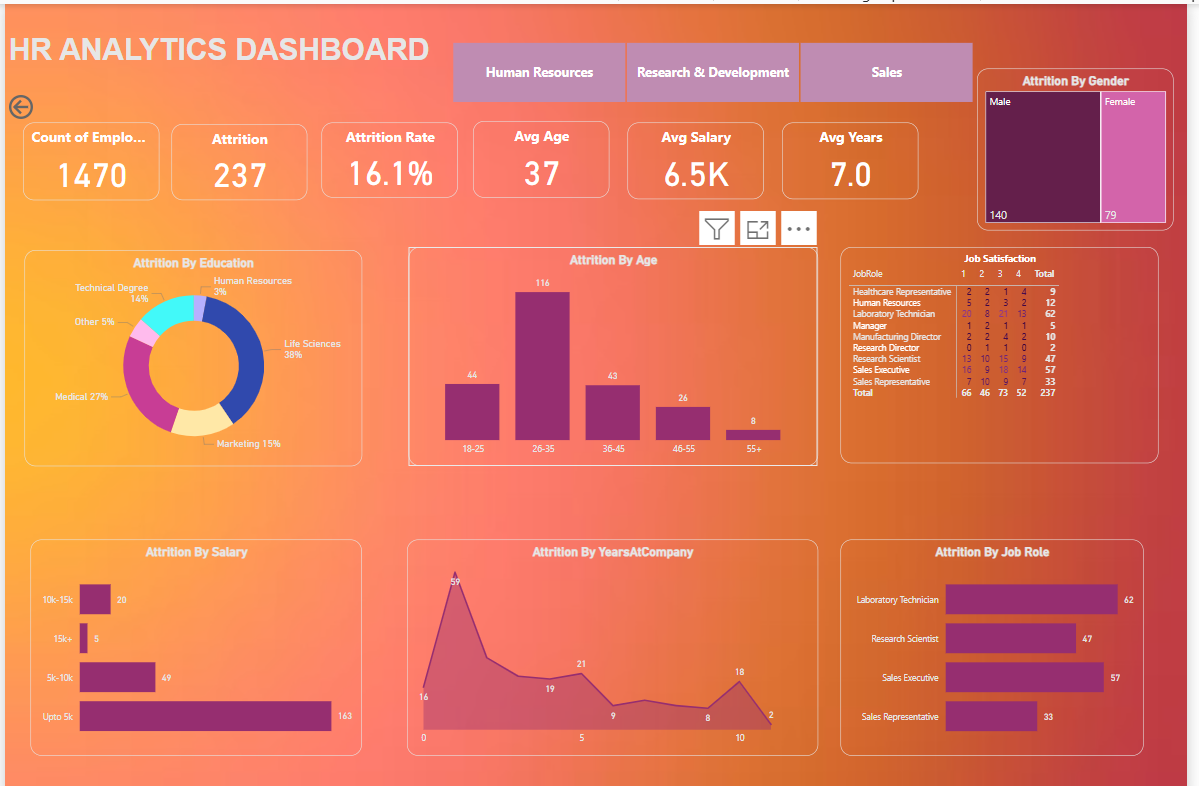

Layout of this report page (visuals, bound fields, positions):
{"tool":"powerbi","page":{"name":"Page 1","canvas":[1480,1000],"ordinal":0},"visuals":[{"type":"card","title":"Count of Employees","fields":{"Values":["CountNonNull(HR_Analytics.EmpID)"]},"box":[22.5,148.3,170.8,97.6],"z":0},{"type":"card","title":"Attrition","fields":{"Values":["Sum(HR_Analytics.AttritionCount)"]},"box":[207.8,149.4,170,95],"z":1000},{"type":"card","title":"Attrition Rate","fields":{"Values":["HR_Analytics.AttritionRate"]},"box":[396.1,148.3,170.8,93.9],"z":2000},{"type":"card","title":"Avg Age","fields":{"Values":["Avg(HR_Analytics.Age)"]},"box":[585.7,146.4,170.8,95.7],"z":3000},{"type":"card","title":"Avg Salary","fields":{"Values":["Avg(HR_Analytics.MonthlyIncome)"]},"box":[779.1,148.3,170.8,95.7],"z":4000},{"type":"card","title":"Avg Years","fields":{"Values":["Avg(HR_Analytics.YearsAtCompany)"]},"box":[972.5,148.3,170.8,95.7],"z":5000},{"type":"actionButton","box":[0,108.9,100,40],"z":6000},{"type":"donutChart","title":"Attrition By Education","fields":{"Category":["HR_Analytics.EducationField"],"Y":["Sum(HR_Analytics.AttritionCount)"]},"box":[24.4,307.9,422.4,270.3],"z":7000},{"type":"columnChart","title":"Attrition By Age","fields":{"Category":["HR_Analytics.AgeGroup"],"Y":["Sum(HR_Analytics.AttritionCount)"]},"box":[505,304.1,512.5,274.1],"z":8000},{"type":"pivotTable","title":"Job Satisfaction","fields":{"Rows":["HR_Analytics.JobRole"],"Columns":["HR_Analytics.JobSatisfaction"],"Values":["Sum(HR_Analytics.AttritionCount)"]},"box":[1045.7,304.1,398,270.3],"z":9000},{"type":"barChart","title":"Attrition By Salary","fields":{"Category":["HR_Analytics.SalarySlab"],"Y":["Sum(HR_Analytics.AttritionCount)"]},"box":[31.9,670.2,414.9,270.3],"z":10000},{"type":"barChart","title":"Attrition By Job Role","fields":{"Category":["HR_Analytics.JobRole"],"Y":["Sum(HR_Analytics.AttritionCount)"]},"box":[1045.7,670.2,379.2,270.3],"z":11000},{"type":"areaChart","title":"Attrition By YearsAtCompany","fields":{"Category":["HR_Analytics.YearsAtCompany"],"Y":["Sum(HR_Analytics.AttritionCount)"]},"box":[503.1,670.2,514.4,270.3],"z":12000},{"type":"treemap","title":"Attrition By Gender","fields":{"Group":["HR_Analytics.Gender"],"Values":["Sum(HR_Analytics.AttritionCount)"]},"box":[1216.5,80.7,245.9,202.8],"z":13000},{"type":"slicer","fields":{"Values":["HR_Analytics.Department"]},"box":[535.1,41.3,700.3,88.2],"z":14000},{"type":"textbox","box":[0,30,567,99.5],"z":14001}]}

Visuals, with their boxes on the page's 1480x1000 design canvas (x1, y1, x2, y2). These are canvas units, not pixel positions in the 1199x786 screenshot, which may show the page scaled, cropped or inside an application window:
"Count of Employees" card: <box>22,148,193,246</box>
"Attrition" card: <box>208,149,378,244</box>
"Attrition Rate" card: <box>396,148,567,242</box>
"Avg Age" card: <box>586,146,756,242</box>
"Avg Salary" card: <box>779,148,950,244</box>
"Avg Years" card: <box>972,148,1143,244</box>
actionButton: <box>0,109,100,149</box>
"Attrition By Education" donutChart: <box>24,308,447,578</box>
"Attrition By Age" columnChart: <box>505,304,1018,578</box>
"Job Satisfaction" pivotTable: <box>1046,304,1444,574</box>
"Attrition By Salary" barChart: <box>32,670,447,940</box>
"Attrition By Job Role" barChart: <box>1046,670,1425,940</box>
"Attrition By YearsAtCompany" areaChart: <box>503,670,1018,940</box>
"Attrition By Gender" treemap: <box>1216,81,1462,284</box>
slicer - HR_Analytics.Department: <box>535,41,1235,130</box>
textbox: <box>0,30,567,130</box>
